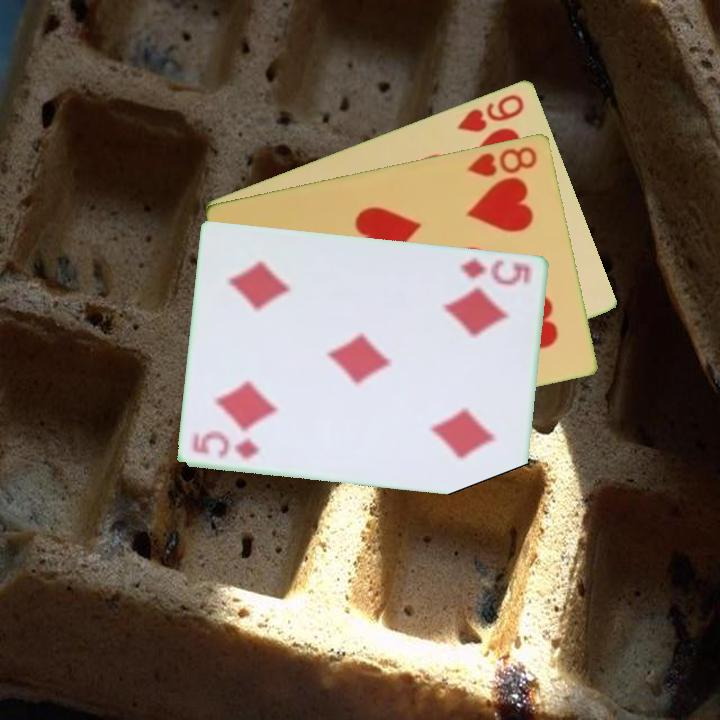5d: (457, 254, 534, 288), (189, 429, 262, 462)
8h: (463, 142, 541, 180)
9h: (454, 90, 527, 135)
